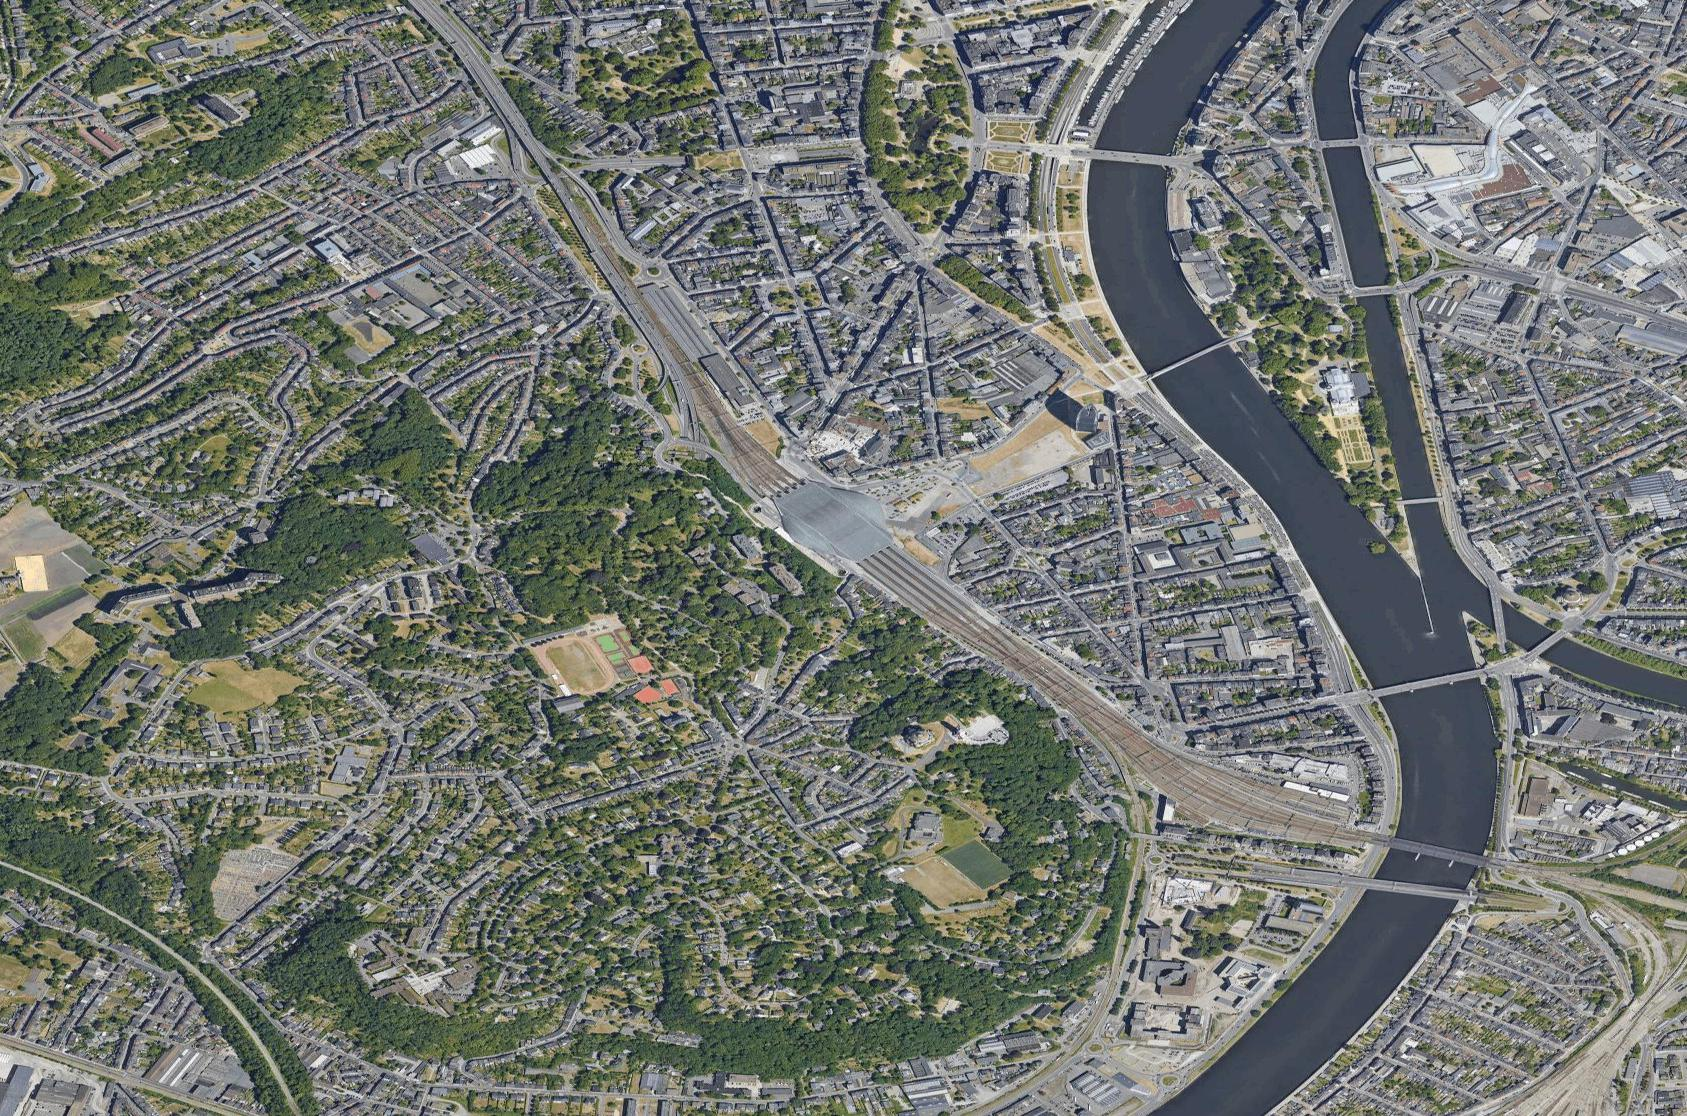bridge: (1375, 658, 1485, 701), (1379, 828, 1490, 871), (1367, 871, 1473, 907), (1148, 339, 1228, 380), (1084, 142, 1173, 172), (1350, 278, 1397, 303), (1318, 130, 1366, 154)
train_station: (736, 448, 908, 582)
